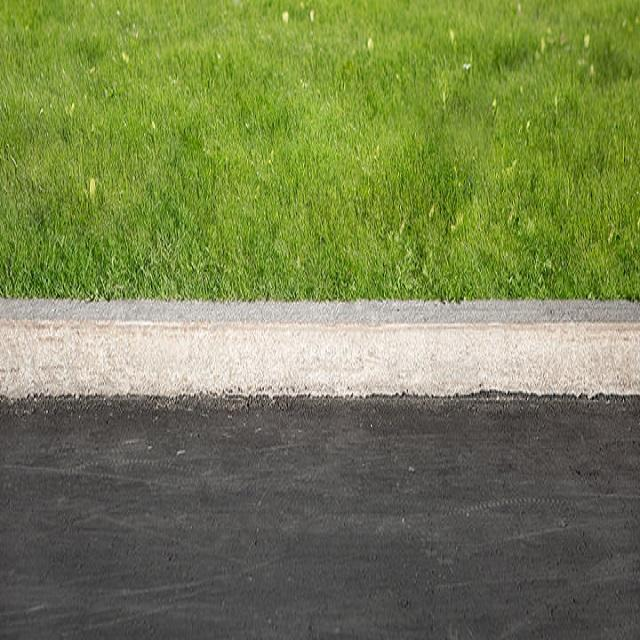curb: (6, 284, 640, 413)
